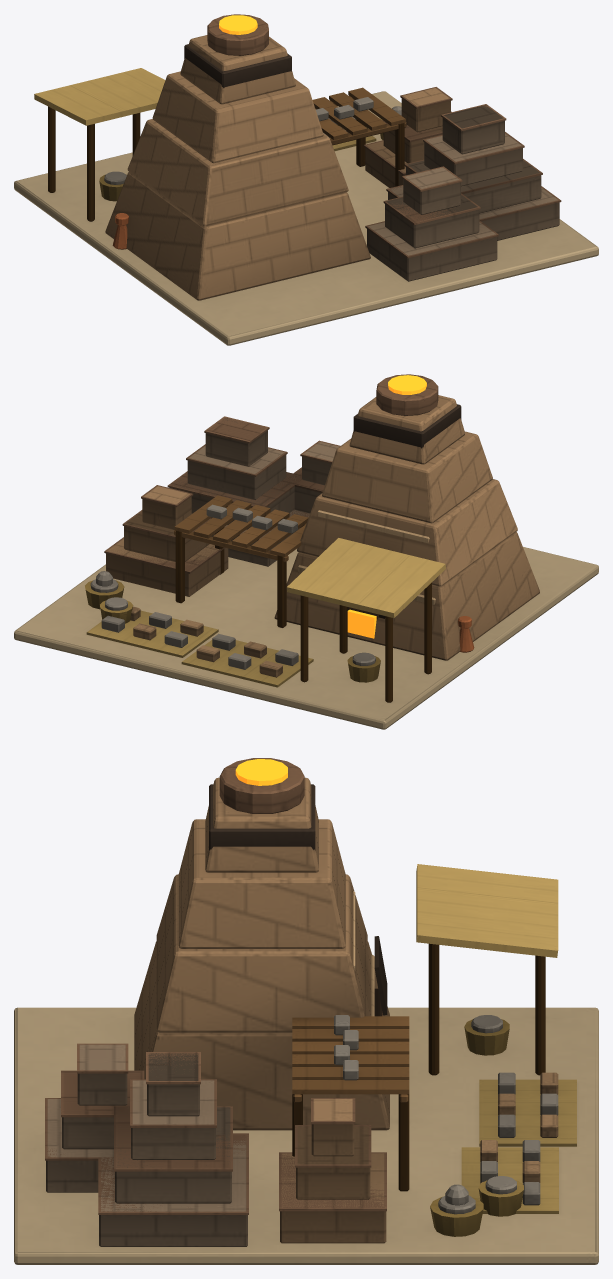
The model's file is mudbrick_yard.glb.
3 views of the same model, one above another, from view 1: azimuth 30°, elevation 25°; view 2: azimuth 150°, elevation 25°; view 3: azimuth 270°, elevation 25° (orthographic). The views are drawn at different scales.
Visible parts, largest first — view 1: mudbrick_yard_brick_sand, mudbrick_yard_earth_pack, mudbrick_yard_brick_grey, mudbrick_yard_mud_dark, mudbrick_yard_thatch_mat, mudbrick_yard_wood_mid, mudbrick_yard_wood_dark, mudbrick_yard_char_dark, mudbrick_yard_clay_grey, mudbrick_yard_ember_glow, mudbrick_yard_pottery; view 2: mudbrick_yard_brick_sand, mudbrick_yard_earth_pack, mudbrick_yard_thatch_mat, mudbrick_yard_brick_grey, mudbrick_yard_mud_dark, mudbrick_yard_wood_mid, mudbrick_yard_wood_dark, mudbrick_yard_clay_grey, mudbrick_yard_char_dark, mudbrick_yard_thatch_dark, mudbrick_yard_ember_glow, mudbrick_yard_mud_tan; view 3: mudbrick_yard_brick_sand, mudbrick_yard_earth_pack, mudbrick_yard_brick_grey, mudbrick_yard_thatch_mat, mudbrick_yard_mud_dark, mudbrick_yard_wood_mid, mudbrick_yard_clay_grey, mudbrick_yard_wood_dark, mudbrick_yard_thatch_dark, mudbrick_yard_char_dark, mudbrick_yard_ember_glow.
Boxes of the visible parts, x1,y1,x2,y2 form: mudbrick_yard_brick_sand: (105, 35, 450, 300); mudbrick_yard_earth_pack: (14, 91, 598, 345); mudbrick_yard_brick_grey: (367, 105, 559, 281); mudbrick_yard_mud_dark: (207, 14, 561, 258); mudbrick_yard_thatch_mat: (34, 68, 376, 150); mudbrick_yard_wood_mid: (312, 87, 406, 145); mudbrick_yard_wood_dark: (48, 106, 404, 221); mudbrick_yard_char_dark: (184, 44, 291, 88); mudbrick_yard_clay_grey: (104, 97, 401, 184); mudbrick_yard_ember_glow: (219, 15, 257, 34); mudbrick_yard_pottery: (112, 213, 128, 249); mudbrick_yard_brick_sand: (106, 395, 539, 677); mudbrick_yard_earth_pack: (14, 547, 598, 729); mudbrick_yard_thatch_mat: (86, 538, 445, 687); mudbrick_yard_brick_grey: (169, 418, 339, 566); mudbrick_yard_mud_dark: (104, 374, 438, 573); mudbrick_yard_wood_mid: (174, 495, 308, 562); mudbrick_yard_wood_dark: (175, 527, 431, 702); mudbrick_yard_clay_grey: (90, 504, 375, 669); mudbrick_yard_char_dark: (353, 404, 461, 448); mudbrick_yard_thatch_dark: (85, 580, 380, 682); mudbrick_yard_ember_glow: (347, 375, 426, 638); mudbrick_yard_mud_tan: (298, 510, 435, 604); mudbrick_yard_brick_sand: (134, 777, 558, 1243); mudbrick_yard_earth_pack: (14, 1007, 598, 1264); mudbrick_yard_brick_grey: (46, 1044, 247, 1246); mudbrick_yard_thatch_mat: (416, 864, 576, 1213); mudbrick_yard_mud_dark: (45, 758, 386, 1214); mudbrick_yard_wood_mid: (292, 1016, 409, 1102); mudbrick_yard_clay_grey: (334, 1015, 558, 1214); mudbrick_yard_wood_dark: (292, 943, 545, 1191); mudbrick_yard_thatch_dark: (430, 1019, 523, 1236); mudbrick_yard_char_dark: (209, 784, 387, 1015); mudbrick_yard_ember_glow: (235, 759, 287, 785).
Size of the model in its own units: 3.3 by 1.97 by 3.3.
Materials: 15 (14 with a texture image).
